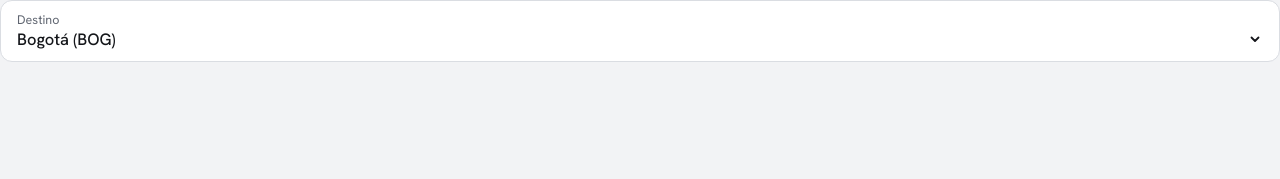
Test case: AirportCombobox › si no hay coincidencias lo avisa, y al salir sin elegir se restaura la opción anterior
The image size is (1280, 179).
Replace the text in the dropdown with "zzz" at (640, 38), box top-left (17, 27), bottom-right (1263, 50)
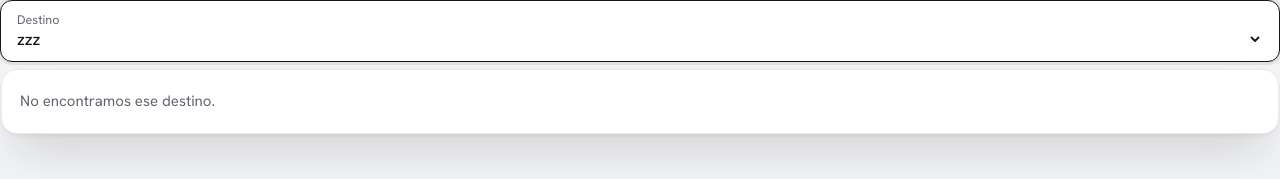
Now no options are shown
Now the text "No encontramos ese destino." is shown, box top-left (20, 91), bottom-right (215, 111)
Press Tab
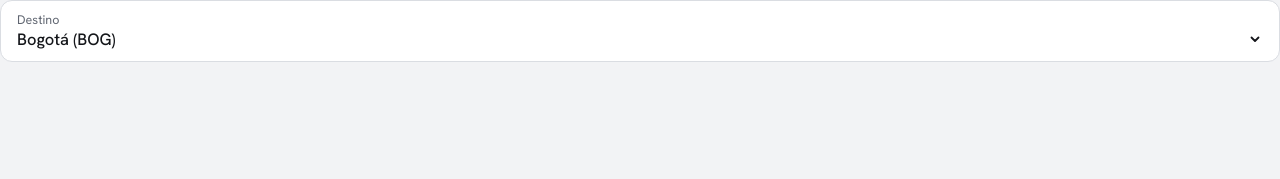
Now the dropdown holds "Bogotá (BOG)", box top-left (17, 27), bottom-right (1263, 50)
